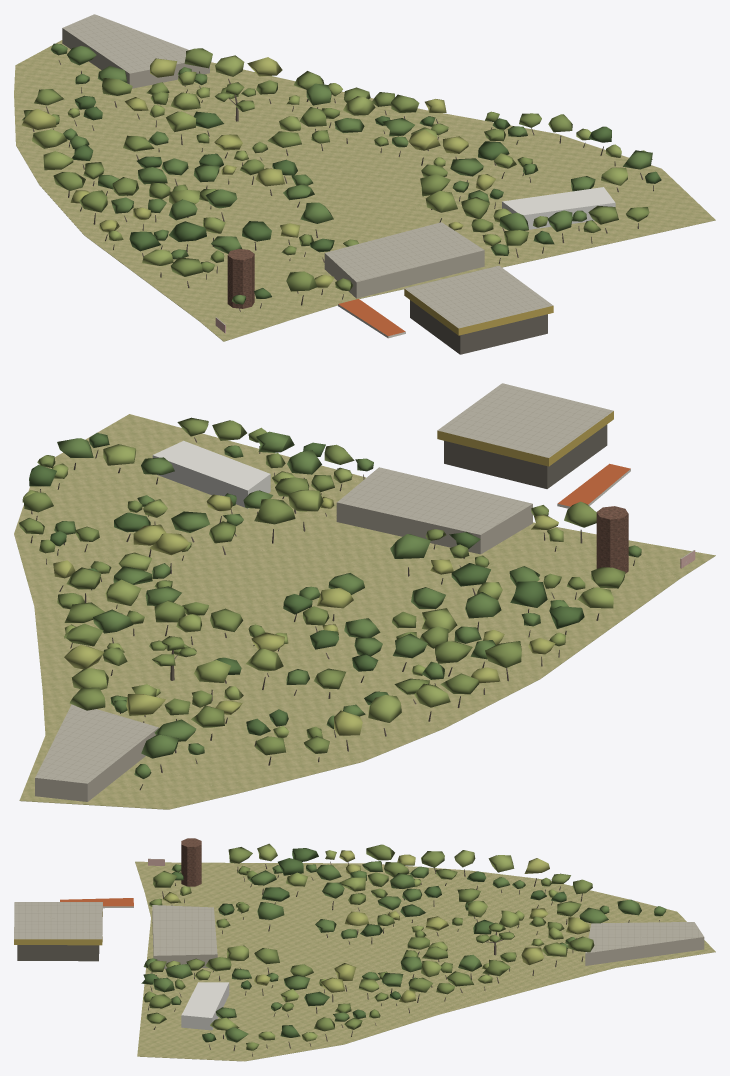
Rendered from liaquat_bagh_far.glb.
3 renders of one model, top to bottom at view 1: azimuth 30°, elevation 25°; view 2: azimuth 150°, elevation 25°; view 3: azimuth 270°, elevation 25°, orthographic. The views are drawn at different scales.
Visible parts, largest first — view 1: m_lawn, m_leaf_olive, m_concrete_roof, m_leaf_mid, m_leaf_light, m_leaf_dark, m_leaf_yellow, m_office_block, m_hall_wall, m_white_roof, m_tank_brick, m_hall_fascia (+2 smaller); view 2: m_lawn, m_leaf_olive, m_concrete_roof, m_leaf_mid, m_leaf_light, m_leaf_yellow, m_leaf_dark, m_office_block, m_white_roof, m_hall_wall, m_tank_brick, m_hall_fascia (+2 smaller); view 3: m_lawn, m_leaf_olive, m_concrete_roof, m_leaf_mid, m_leaf_light, m_leaf_dark, m_leaf_yellow, m_office_block, m_white_roof, m_hall_wall, m_tank_brick, m_bark (+2 smaller).
Boxes of the visible parts, x1,y1,x2,y2 form: m_lawn: (14, 40, 715, 341); m_leaf_olive: (22, 48, 652, 291); m_concrete_roof: (63, 14, 552, 328); m_leaf_mid: (51, 43, 652, 304); m_leaf_light: (32, 55, 627, 265); m_leaf_dark: (72, 95, 661, 298); m_leaf_yellow: (21, 57, 495, 287); m_office_block: (62, 28, 484, 298); m_hall_wall: (410, 300, 547, 354); m_white_roof: (502, 187, 615, 229); m_tank_brick: (227, 249, 254, 308); m_hall_fascia: (404, 289, 553, 335); m_lawn: (14, 414, 715, 809); m_leaf_olive: (19, 417, 625, 755); m_concrete_roof: (35, 383, 694, 783); m_leaf_mid: (54, 431, 641, 778); m_leaf_light: (22, 444, 613, 737); m_leaf_yellow: (53, 494, 558, 735); m_leaf_dark: (29, 432, 584, 735); m_office_block: (35, 502, 532, 801); m_white_roof: (152, 440, 270, 508); m_hall_wall: (444, 424, 607, 488); m_tank_brick: (596, 506, 628, 573); m_hall_fascia: (437, 411, 613, 466); m_lawn: (135, 861, 715, 1061); m_leaf_olive: (143, 844, 594, 1050); m_concrete_roof: (14, 858, 703, 955); m_leaf_mid: (143, 861, 666, 1042); m_leaf_light: (166, 843, 567, 1041); m_leaf_dark: (141, 848, 566, 1042); m_leaf_yellow: (163, 850, 589, 1002); m_office_block: (152, 911, 704, 968); m_white_roof: (181, 982, 229, 1030); m_hall_wall: (17, 945, 99, 961); m_tank_brick: (181, 838, 201, 886); m_bark: (148, 861, 659, 1056).
Size of the model in its own units: 221 by 20.5 by 329.
Materials: 16 (4 with a texture image).
